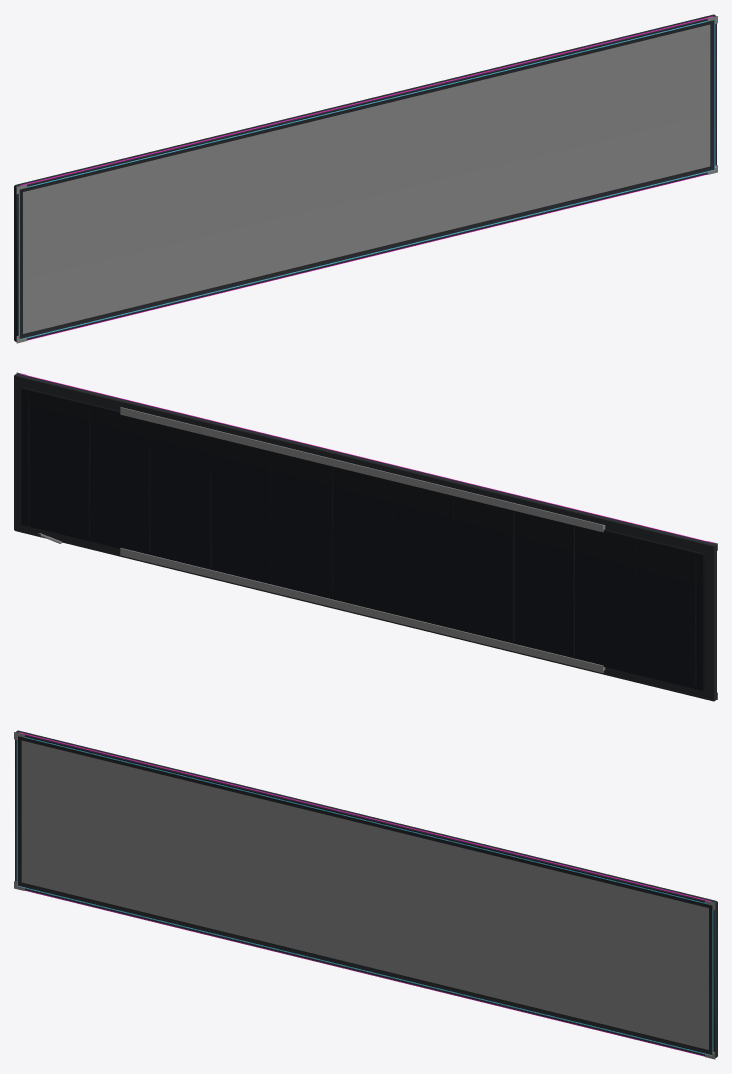
Rendered from Sign_Panel_L.fbx.
3 renders of one model, top to bottom at view 1: azimuth 30°, elevation 25°; view 2: azimuth 150°, elevation 25°; view 3: azimuth 330°, elevation 25°, orthographic.
Parts seen in each view (by area): view 1: Sign_Panel_L_LOD0; view 2: Sign_Panel_L_LOD0; view 3: Sign_Panel_L_LOD0.
Part boxes in pixels (x1,y1,x2,y2): Sign_Panel_L_LOD0: (14,14,717,343); Sign_Panel_L_LOD0: (14,372,717,701); Sign_Panel_L_LOD0: (14,730,717,1059).
Size of what is drawn, in the model's own units: 6.1 by 1.3 by 0.0898.
